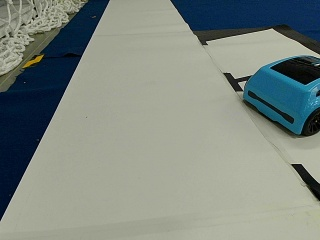car: (242, 53, 318, 138)
